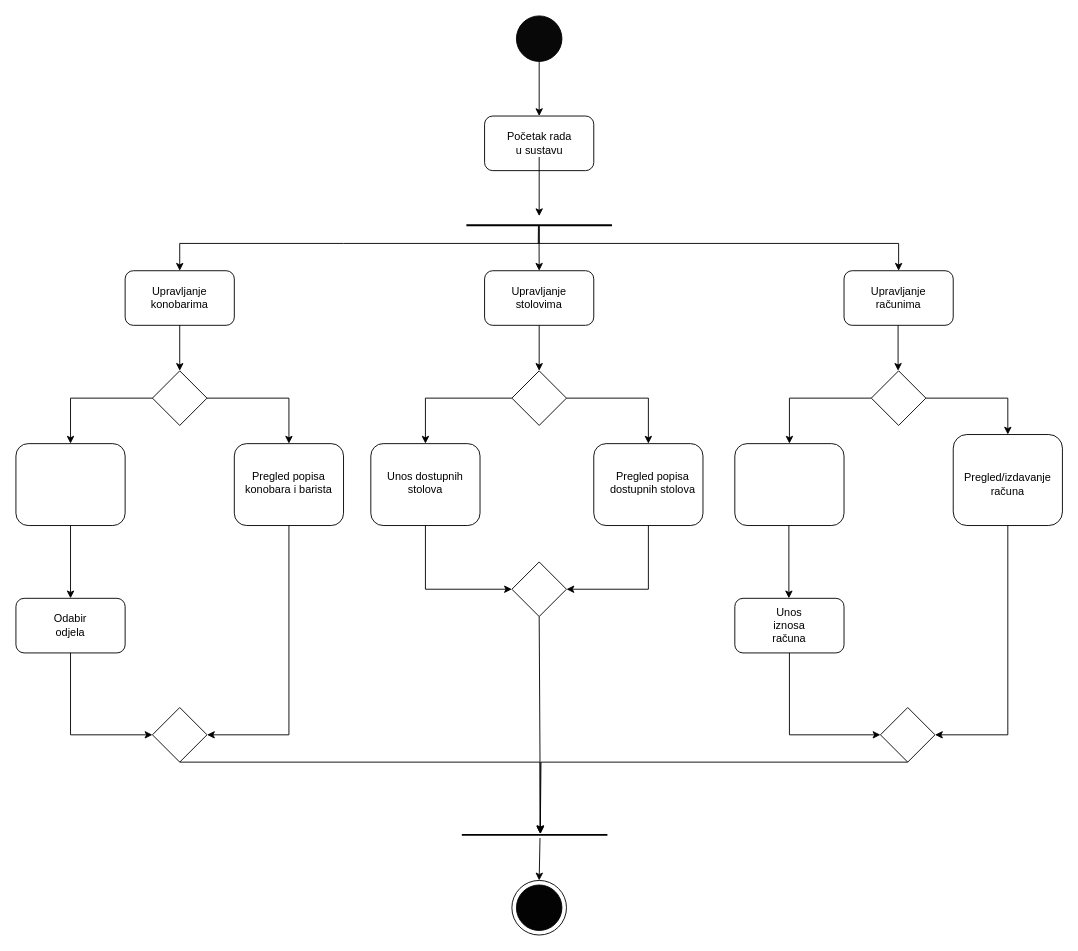
Some shapes in this 1078 by 951 pixel diagram are drawn without their labels. The shapes that lost their labels are listed below. From the top down, each one's centre as x and y in pixels, then its label:
At [70,484]: "Unos/uređivanje podataka o konobarima i baristima".
At [789,484]: "Unos iznosa količine pića".
